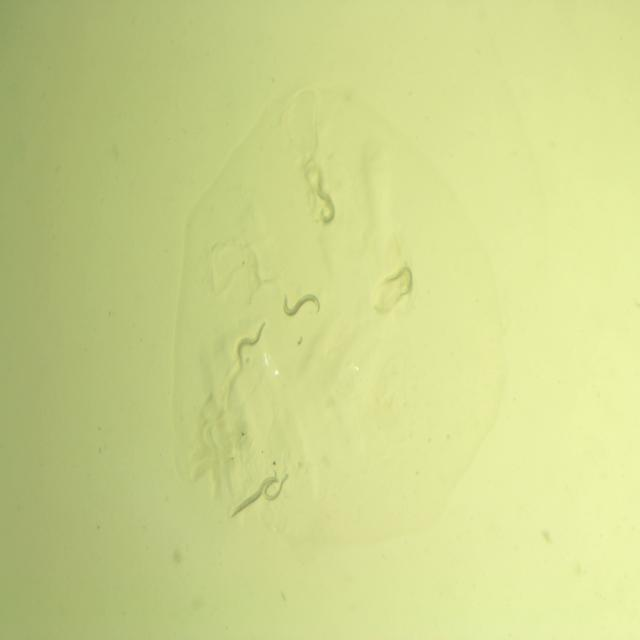worm: (226, 476, 281, 522), (232, 316, 268, 372), (279, 280, 325, 322), (377, 260, 419, 300), (310, 174, 338, 230), (260, 460, 291, 504)
